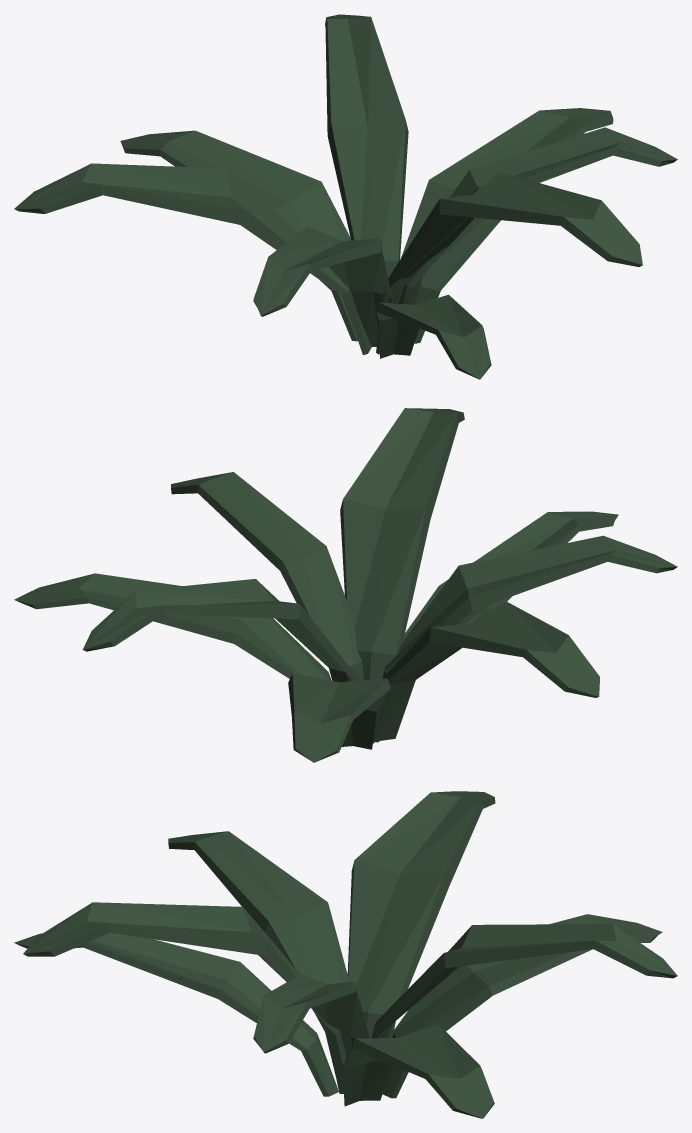
Rendered from SM_Env_Plants_01.glb.
3 renders of one model, top to bottom at view 1: azimuth 30°, elevation 25°; view 2: azimuth 150°, elevation 25°; view 3: azimuth 270°, elevation 25°, orthographic. The views are drawn at different scales.
Visible parts, largest first — view 1: SM_Env_Plants_01_part00; view 2: SM_Env_Plants_01_part00; view 3: SM_Env_Plants_01_part00.
Part boxes in pixels (x1,y1,x2,y2): SM_Env_Plants_01_part00: (14, 14, 677, 379); SM_Env_Plants_01_part00: (14, 408, 677, 762); SM_Env_Plants_01_part00: (14, 791, 677, 1118).
Bounding box in the file's own units: 1.37 × 0.479 × 1.37.
Materials: 1 (1 with a texture image).
